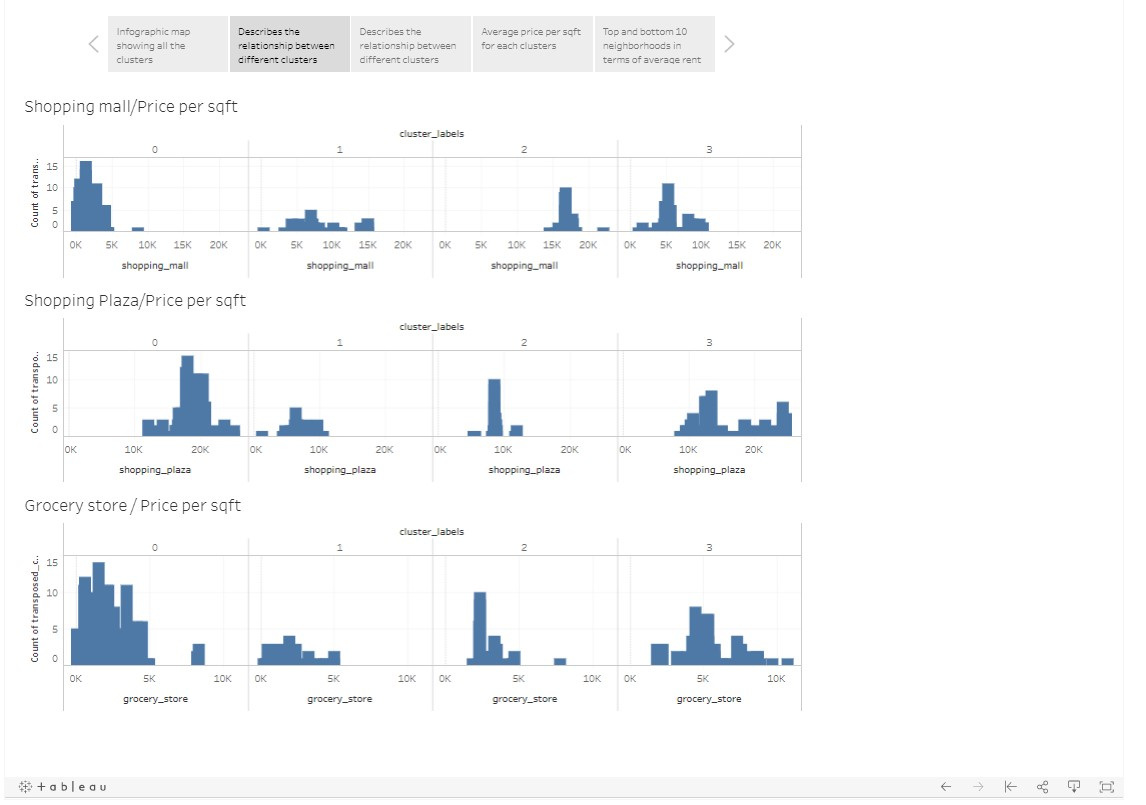

What the dashboard file says about the page in this screenshot:
{"tool":"tableau","page":{"name":"Shopping/Grocery relationships","canvas":[1000,800],"ordinal":0},"visuals":[{"type":"worksheet","box":[0,0,1000,800]},{"type":"worksheet","title":"Shopping mall/Price per sqft","mark":"Bar","rows":["price_per_sqft"],"cols":["cluster_labels","shopping_mall"],"box":[8,8,984,242]},{"type":"worksheet","title":"Shopping Plaza/Price per sqft","mark":"Bar","rows":["price_per_sqft"],"cols":["cluster_labels","shopping_plaza"],"box":[8,250,984,256]},{"type":"worksheet","title":"Grocery store / Price per sqft","mark":"Bar","rows":["price_per_sqft"],"cols":["cluster_labels","grocery_store"],"box":[8,506,984,286]}]}

Visuals, with their boxes on the page's 1000x800 design canvas (x1, y1, x2, y2). These are canvas units, not pixel positions in the 1146x805 screenshot, which may show the page scaled, cropped or inside an application window:
worksheet: {"x1": 0, "y1": 0, "x2": 1000, "y2": 800}
"Shopping mall/Price per sqft" worksheet (Bar marks): {"x1": 8, "y1": 8, "x2": 992, "y2": 250}
"Shopping Plaza/Price per sqft" worksheet (Bar marks): {"x1": 8, "y1": 250, "x2": 992, "y2": 506}
"Grocery store / Price per sqft" worksheet (Bar marks): {"x1": 8, "y1": 506, "x2": 992, "y2": 792}
